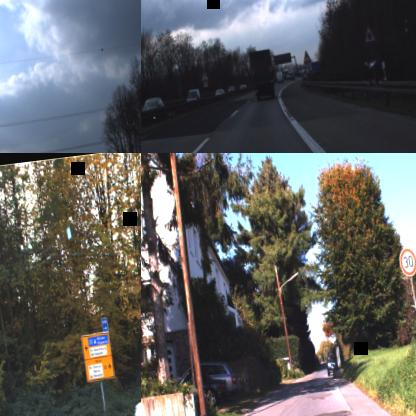DANGER: (198, 66, 210, 82), (302, 49, 312, 64)
SNOW: (360, 18, 378, 46)
speed limit 30: (397, 245, 416, 276)
